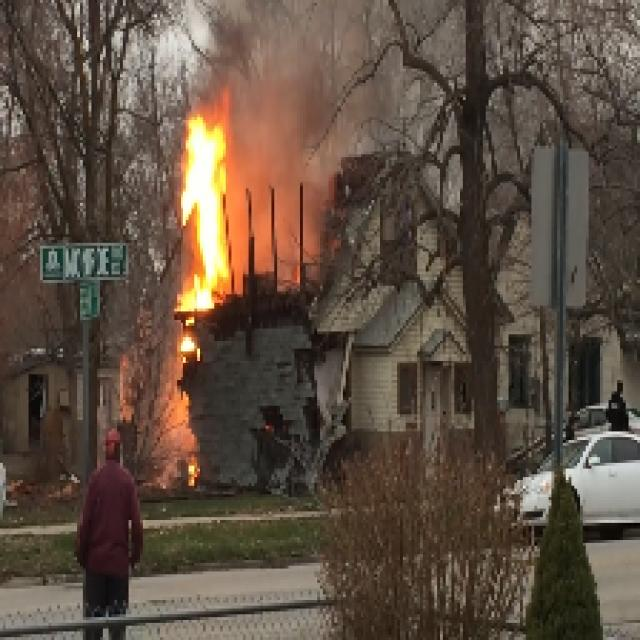fire: (174, 113, 228, 300)
smoke: (232, 74, 324, 282)
